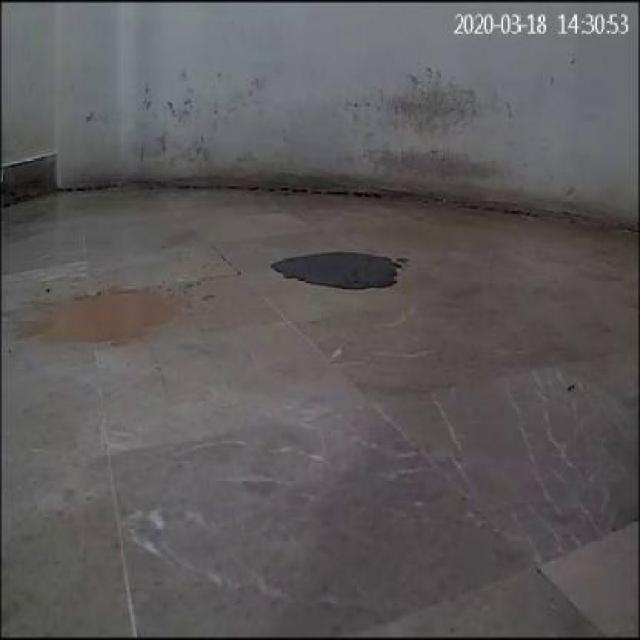spill: (271, 252, 400, 292)
